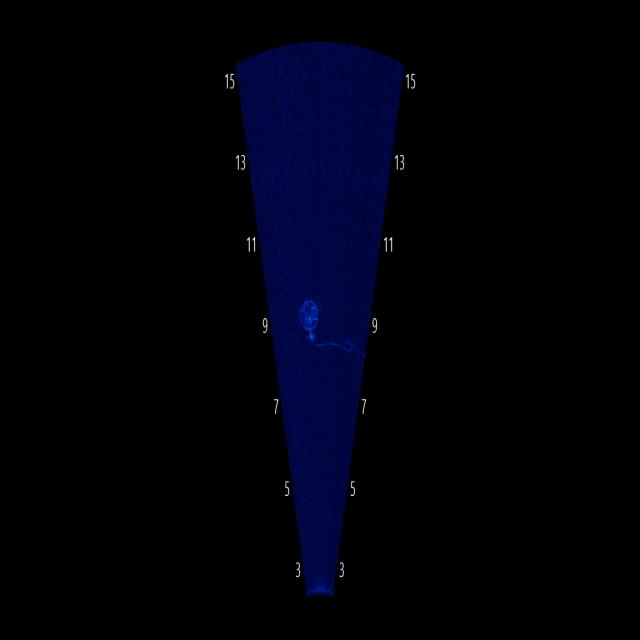circle: (288, 254, 331, 347)
